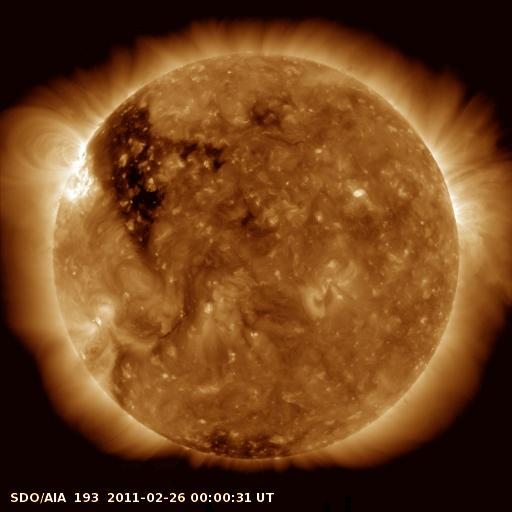coronal_hole: (83, 97, 226, 250), (185, 427, 295, 470)
